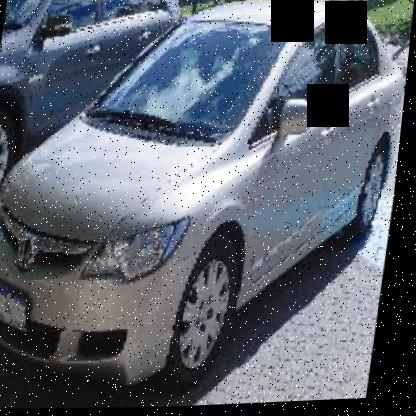not_emergency: (0, 0, 411, 383)
